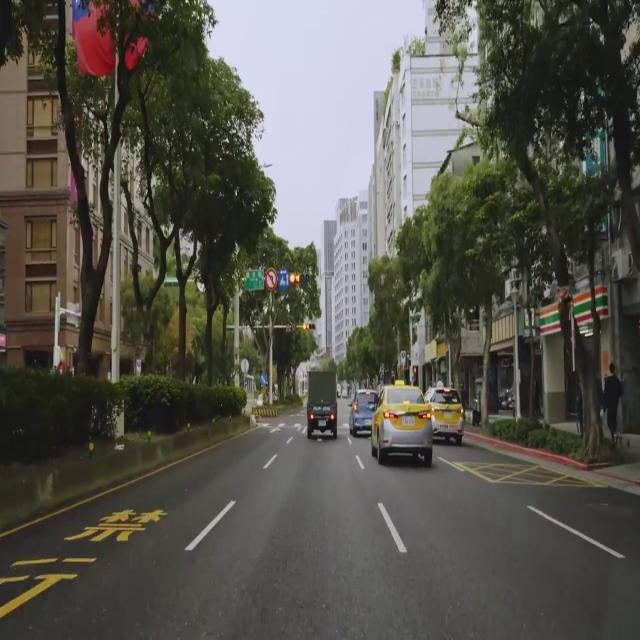red light: (289, 273, 310, 287), (303, 322, 316, 331)
